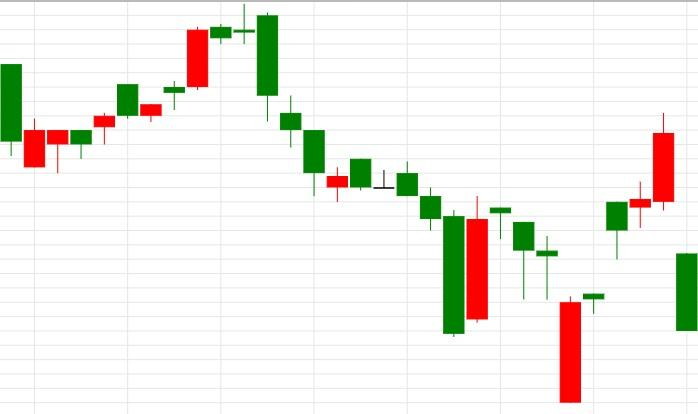three_black_crows_fall: (22, 4, 326, 196)
